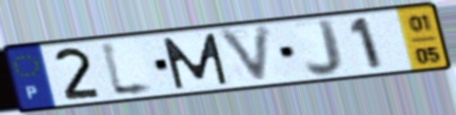1: (348, 14, 386, 72)
2: (53, 45, 102, 101)
J: (303, 18, 346, 79)
L: (97, 38, 160, 101)
M: (159, 31, 231, 92)
V: (214, 21, 276, 87)
